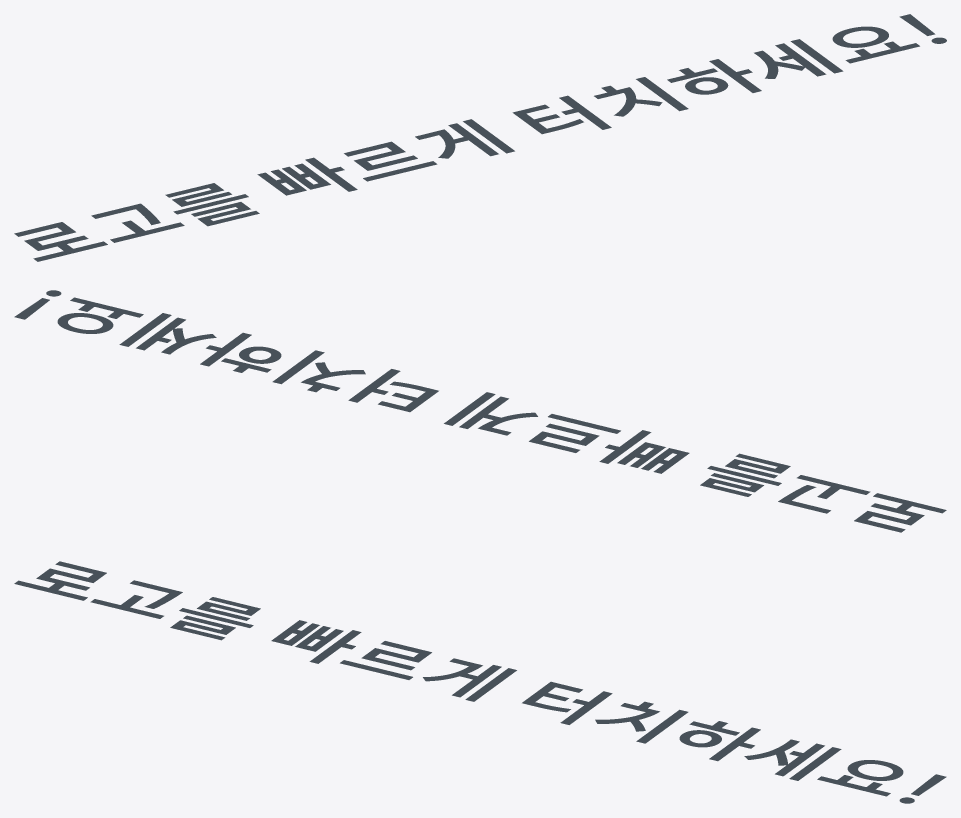
File: clikcerUI.fbx
3 renders of one model, top to bottom at view 1: azimuth 30°, elevation 25°; view 2: azimuth 150°, elevation 25°; view 3: azimuth 330°, elevation 25°, orthographic.
Visible parts, largest first — view 1: Text; view 2: Text; view 3: Text.
Part boxes in pixels (box(x1,y1,x2,y2)): Text: box(14, 14, 946, 261); Text: box(14, 290, 946, 532); Text: box(14, 561, 946, 803).
Size of the model in its own units: 960 by 1.32e-05 by 80.75.
